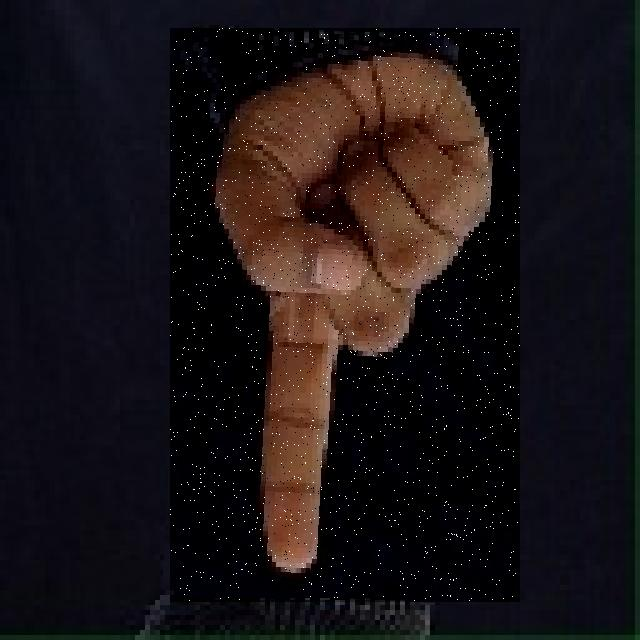IloveYou: (170, 28, 520, 602)
